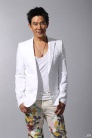male: (24, 6, 54, 40)
